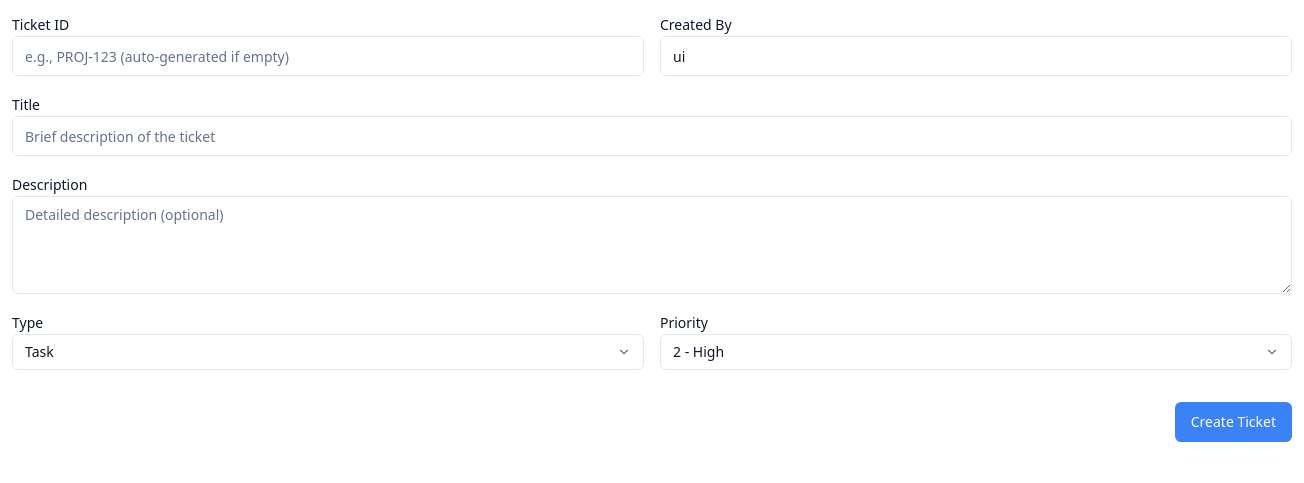
Test: TicketForm › shows validation error when title is empty
The image size is (1304, 483).
Don't fill title, just submit
Click the button "Create Ticket" at (1233, 422), box [1175, 402, 1292, 442]
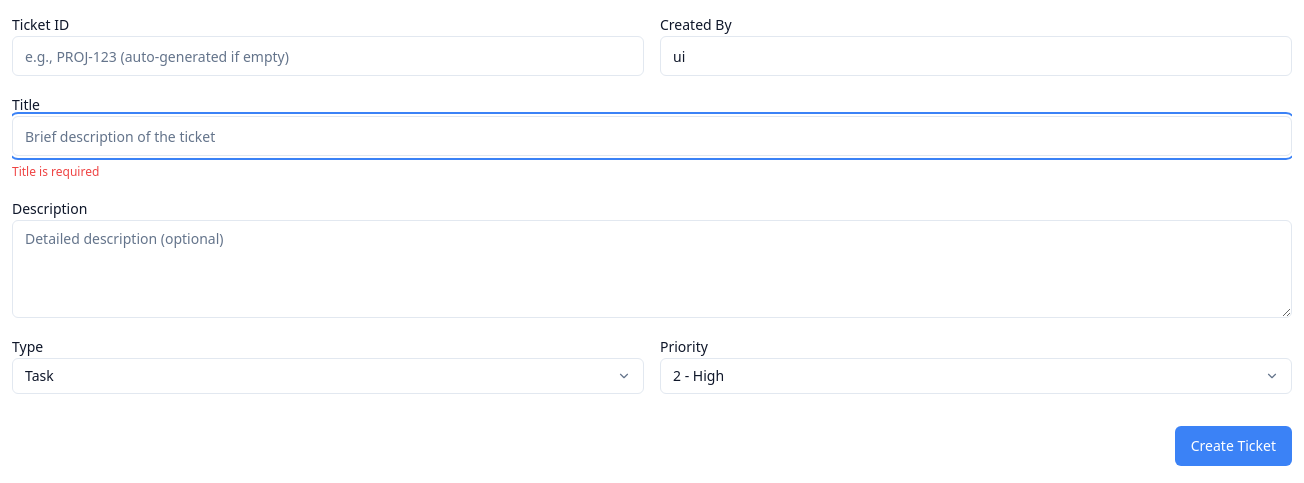
Expected: the text "Title is required" is shown, [12, 163, 99, 180]
